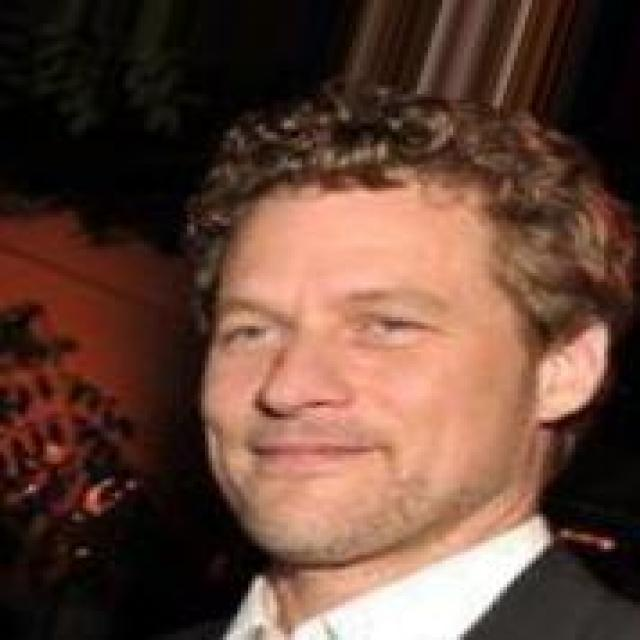nomask: (173, 91, 586, 584)
